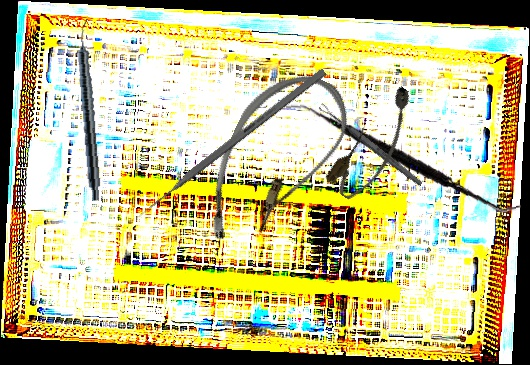Cannula: (190, 55, 361, 269), (321, 81, 430, 206)
Handpiece: (73, 19, 106, 201)
Pusher: (136, 67, 327, 220)
Spatula Surgical: (285, 77, 522, 235)
Surgical Spoon: (318, 102, 424, 188)
